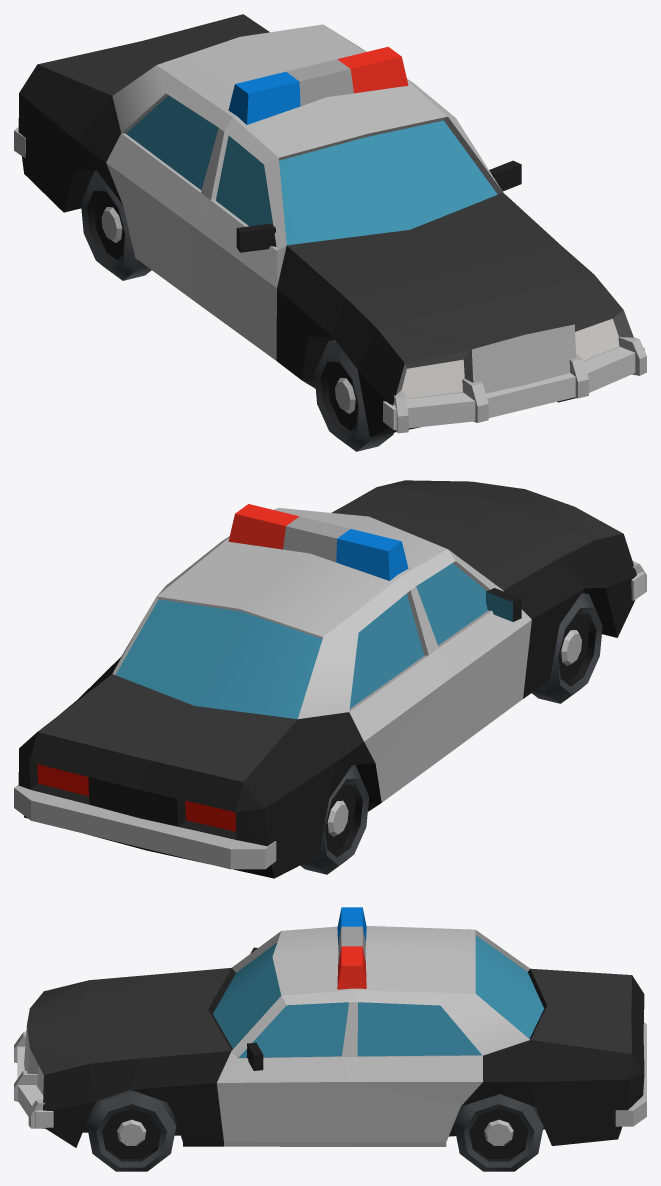
Rendered from PoliceCar.fbx.
The picture shows the model from 3 angles, top to bottom: view 1: azimuth 30°, elevation 25°; view 2: azimuth 150°, elevation 25°; view 3: azimuth 270°, elevation 25°; orthographic projection. The views are drawn at different scales.
Visible parts, largest first — view 1: PoliceCar; view 2: PoliceCar; view 3: PoliceCar.
Part boxes in pixels (bbox=[...]): PoliceCar: bbox=[14, 14, 646, 451]; PoliceCar: bbox=[14, 480, 646, 878]; PoliceCar: bbox=[14, 907, 646, 1171].
Size of the model in its own units: 195 by 162 by 483.
